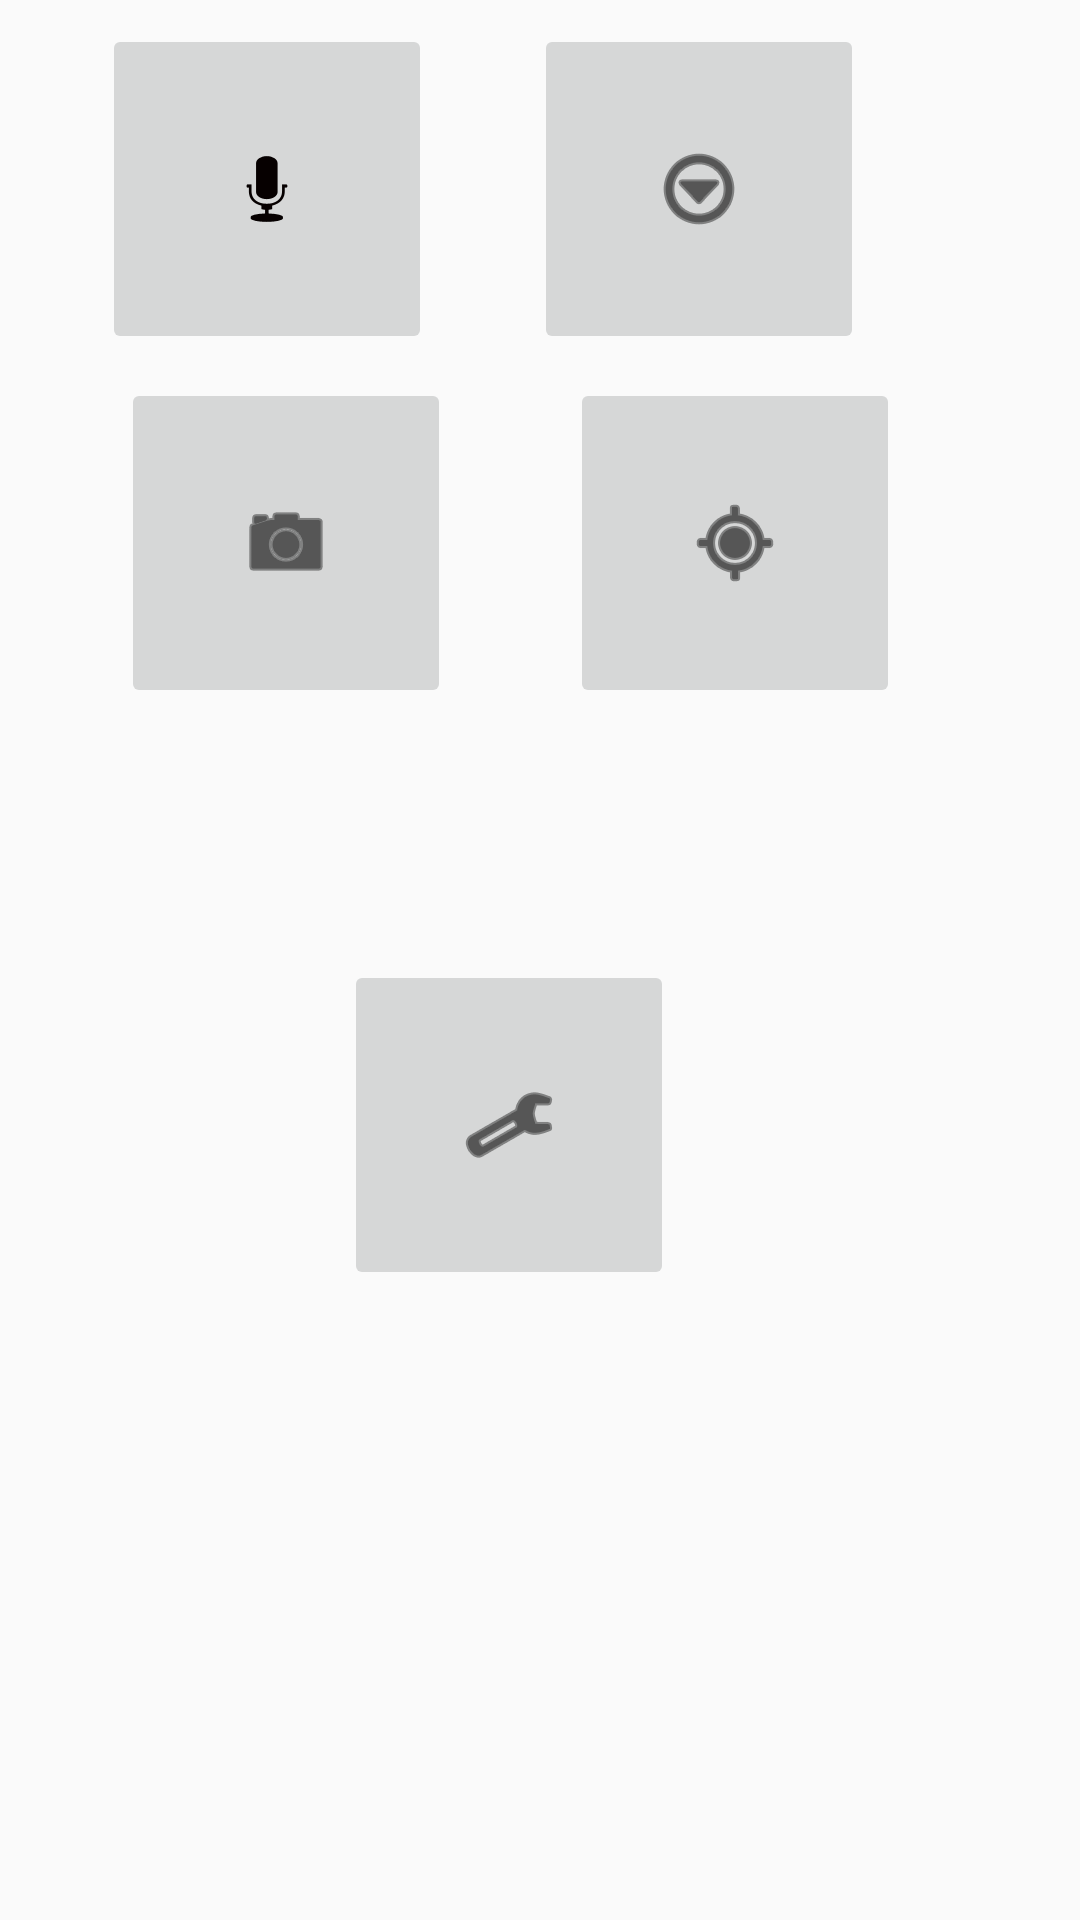

Screen size 1080px×1920px. Icon name, then its box in pixels as (x1, y1, x2, y2):
camera activity: (133, 396, 439, 690)
mylocation: (582, 396, 888, 690)
settings: (356, 978, 662, 1272)
Speech to text: (114, 42, 420, 336)
